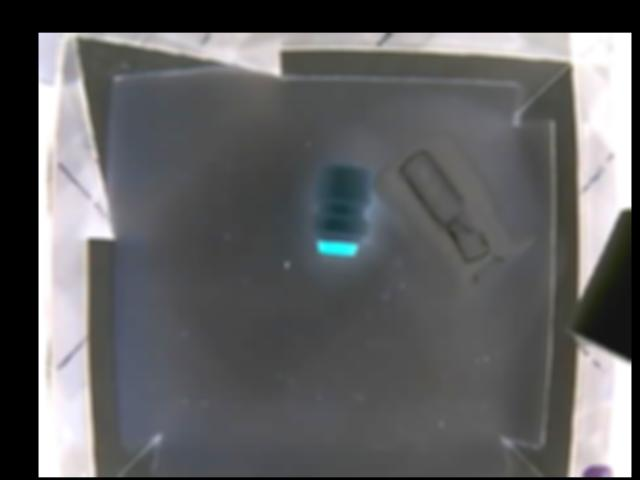Bottle: (389, 138, 536, 281), (311, 165, 372, 255)
